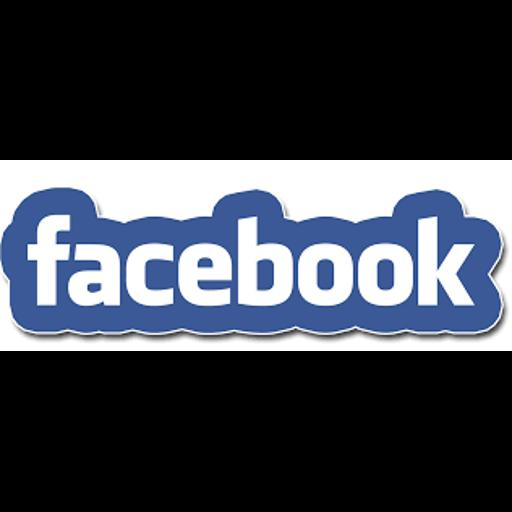Facebook: (0, 160, 512, 351)
